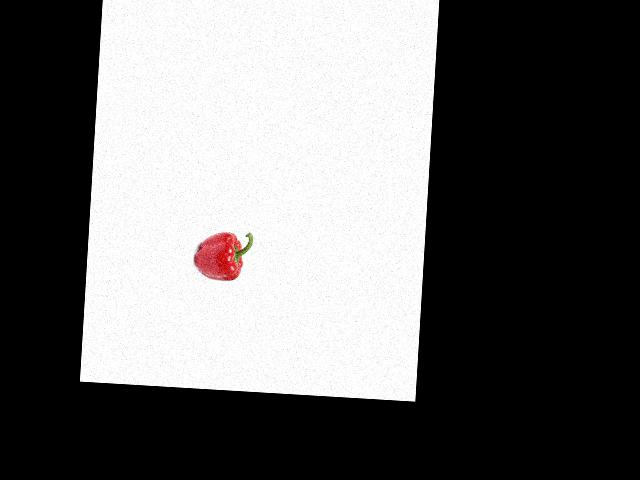bell_pepper: (192, 226, 254, 286)
